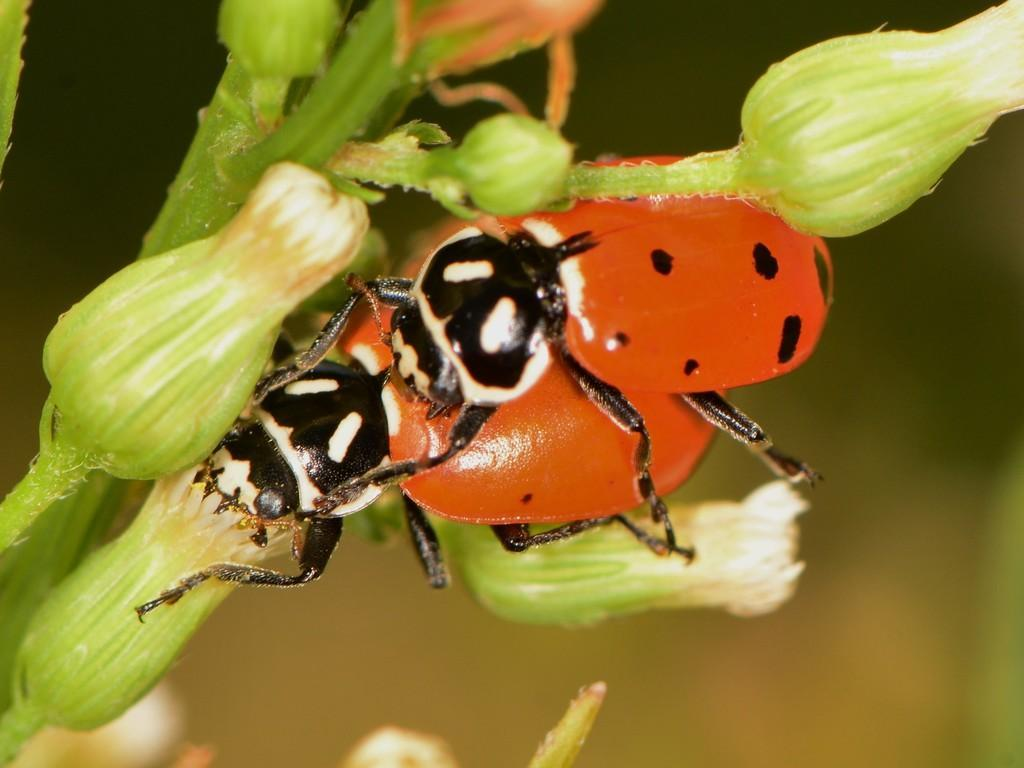ladybug: (131, 211, 731, 621), (251, 151, 841, 559)
